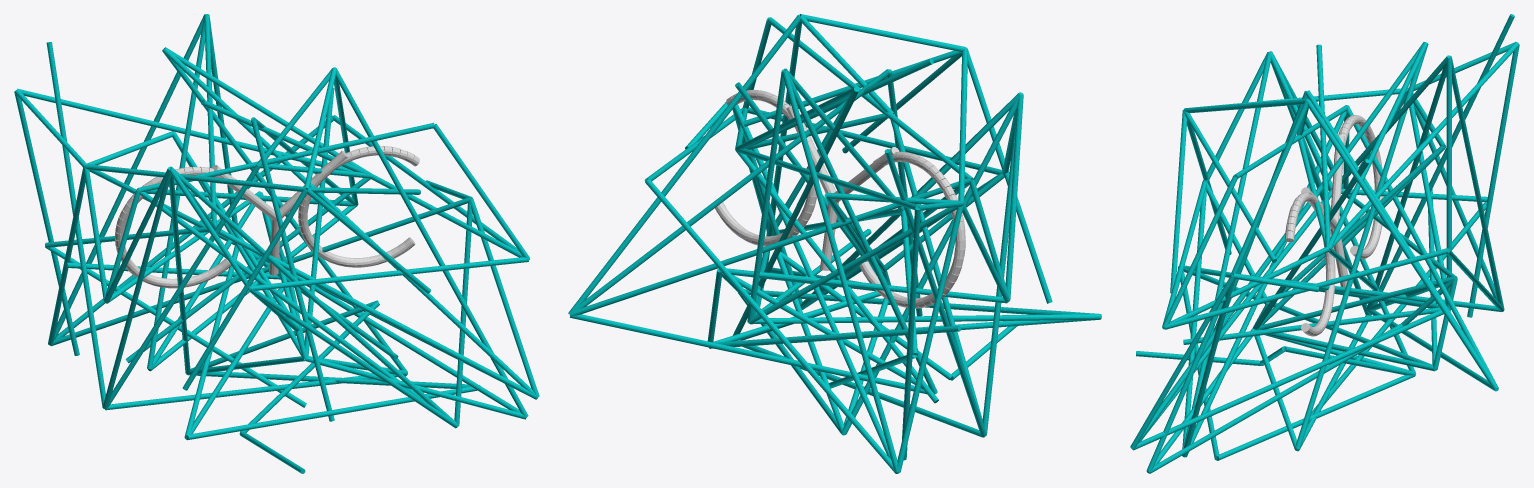
Rendered from cyc_wireframe_white_small.glb.
3 views of the same model, side by side, from view 1: azimuth 30°, elevation 25°; view 2: azimuth 150°, elevation 25°; view 3: azimuth 270°, elevation 25° (orthographic). The views are drawn at different scales.
Parts seen in each view (by area): view 1: world; view 2: world; view 3: world.
Boxes of the visible parts, x1,y1,x2,y2 form: world: (14,14,539,473); world: (568,14,1101,473); world: (1130,14,1519,473).
Size of the model in its own units: 2.89 by 2.85 by 2.88.
